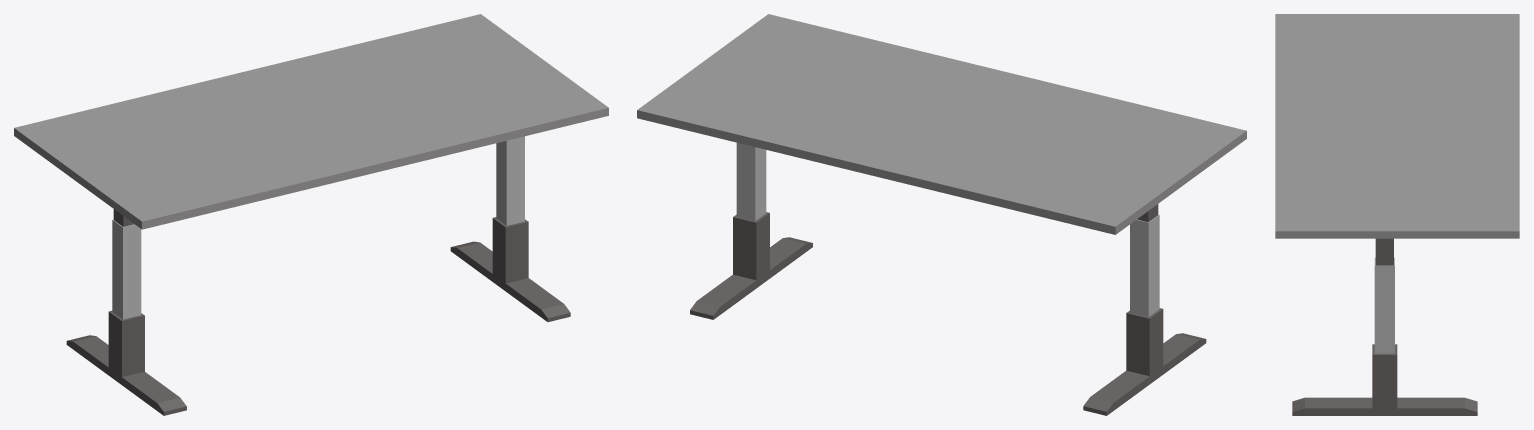
File: desk.fbx
3 renders of one model, left to right at view 1: azimuth 30°, elevation 25°; view 2: azimuth 150°, elevation 25°; view 3: azimuth 270°, elevation 25°, orthographic. The views are drawn at different scales.
Visible parts, largest first — view 1: ComputerDesk_01_snaps001; view 2: ComputerDesk_01_snaps001; view 3: ComputerDesk_01_snaps001.
Boxes of the visible parts, x1,y1,x2,y2 form: ComputerDesk_01_snaps001: (14, 14, 608, 415); ComputerDesk_01_snaps001: (637, 14, 1246, 415); ComputerDesk_01_snaps001: (1275, 14, 1519, 415).
Bounding box in the file's own units: 199 × 94.68 × 84.89.
1 material, 1 textured.
